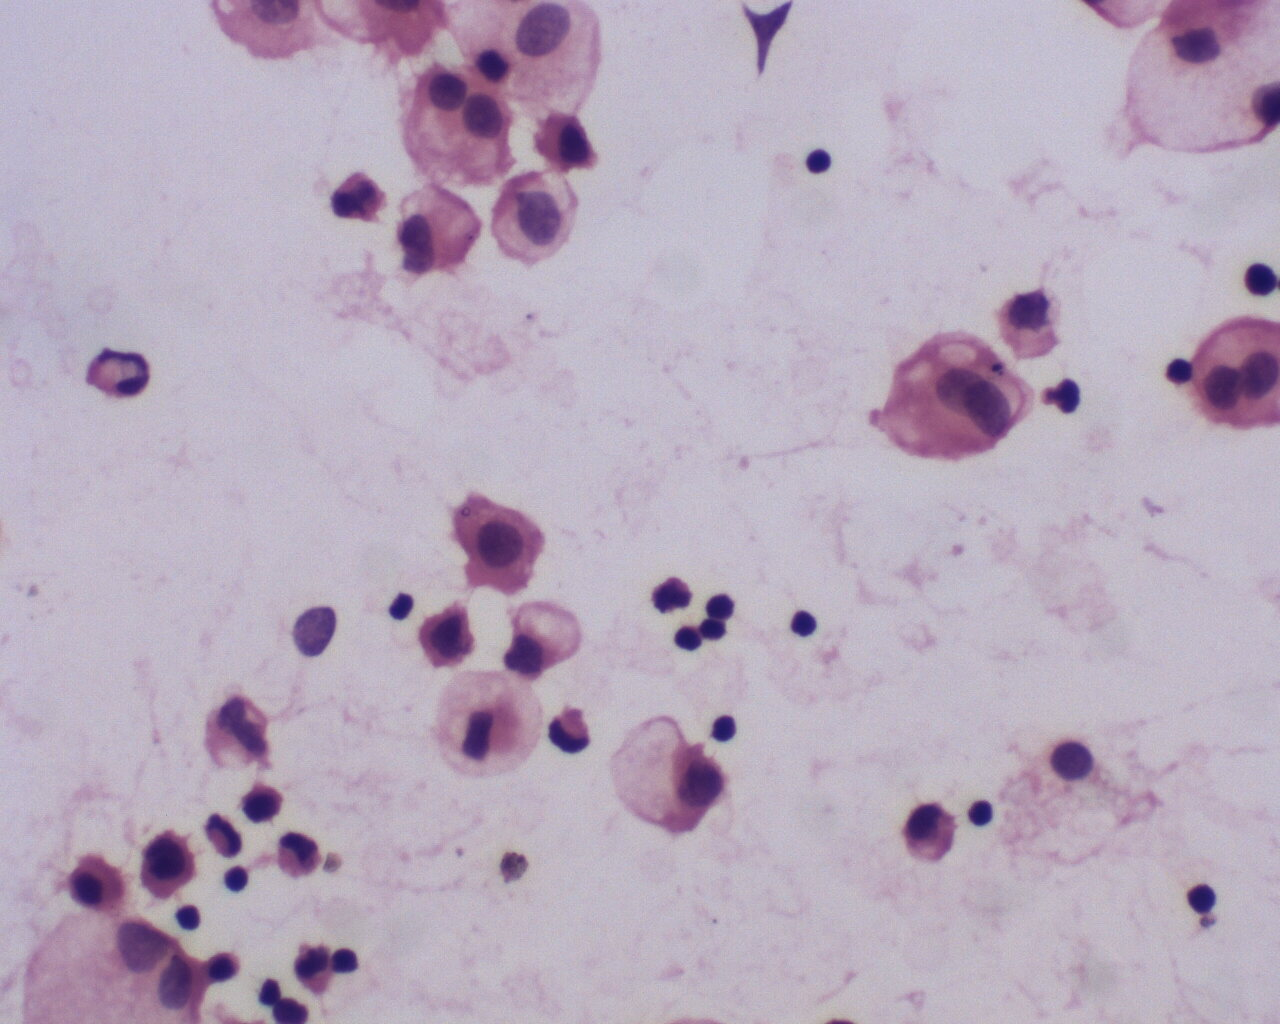ab: (872, 329, 1039, 466), (396, 63, 517, 188), (489, 170, 587, 271)
histo: (433, 669, 545, 774)
lymph: (1180, 876, 1226, 914), (797, 144, 839, 183), (785, 603, 824, 641), (965, 794, 999, 833)
meso: (449, 487, 548, 599), (133, 827, 199, 900), (67, 848, 129, 915)
